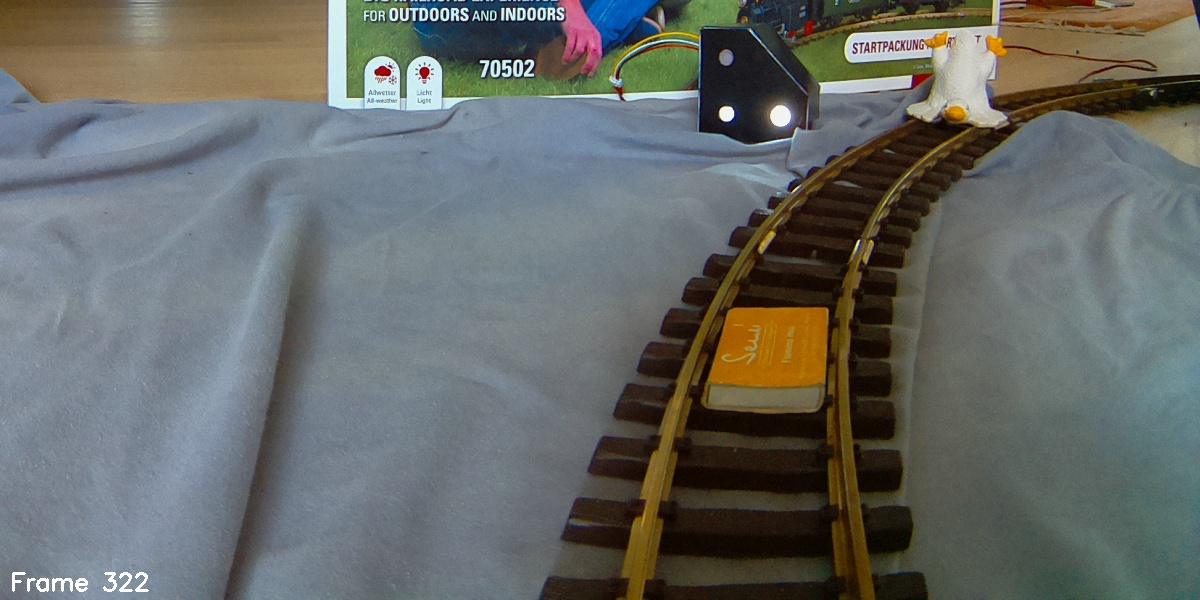Ente: (903, 33, 1007, 134)
Halt: (701, 29, 816, 146)
